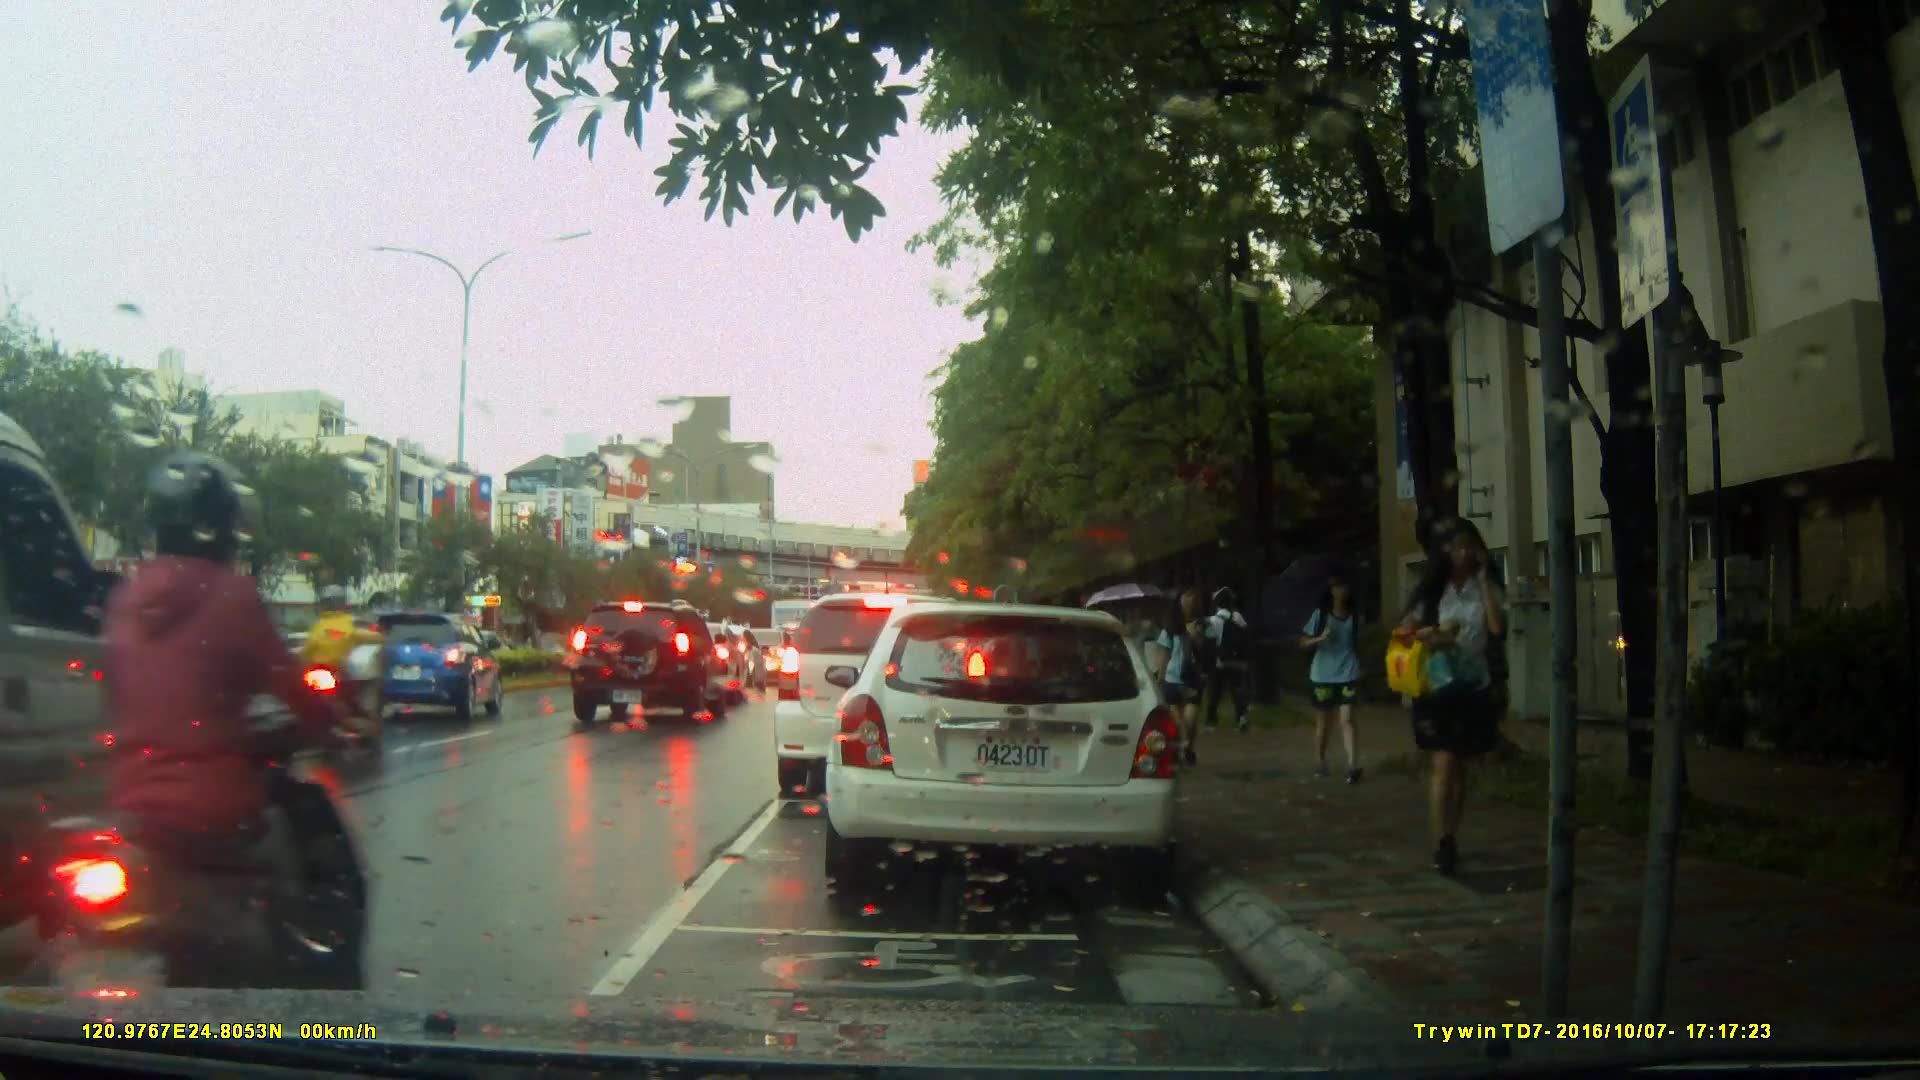pedestrian: (1409, 509, 1522, 873), (1299, 565, 1370, 788), (1165, 569, 1237, 762)
rider: (42, 450, 363, 1062), (299, 584, 383, 753)
vehicle: (1, 398, 264, 981), (815, 593, 1204, 909), (771, 590, 994, 802), (567, 600, 733, 726), (352, 611, 509, 721)
